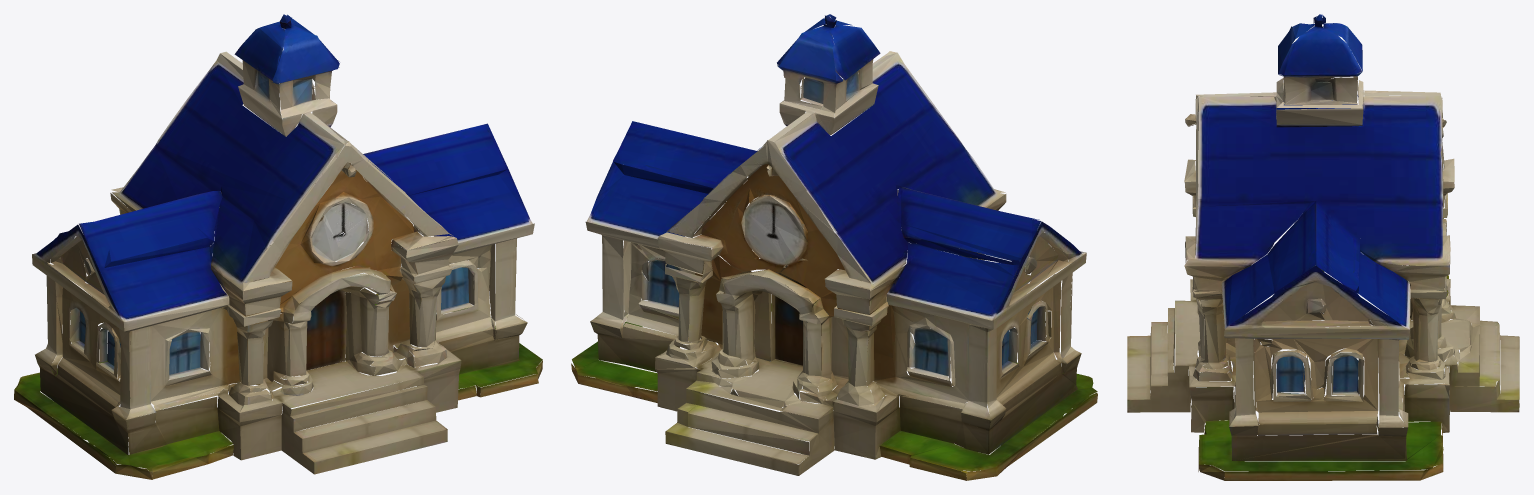
The model's file is city_building.glb.
3 renders of one model, left to right at view 1: azimuth 30°, elevation 25°; view 2: azimuth 150°, elevation 25°; view 3: azimuth 270°, elevation 25°, orthographic.
Visible parts, largest first — view 1: geometry_0; view 2: geometry_0; view 3: geometry_0.
Boxes of the visible parts, x1,y1,x2,y2 form: geometry_0: (14, 14, 542, 479); geometry_0: (571, 14, 1097, 480); geometry_0: (1127, 14, 1519, 480).
Size of the model in its own units: 0.9993 by 0.8288 by 0.8024.
1 material, 1 textured.
